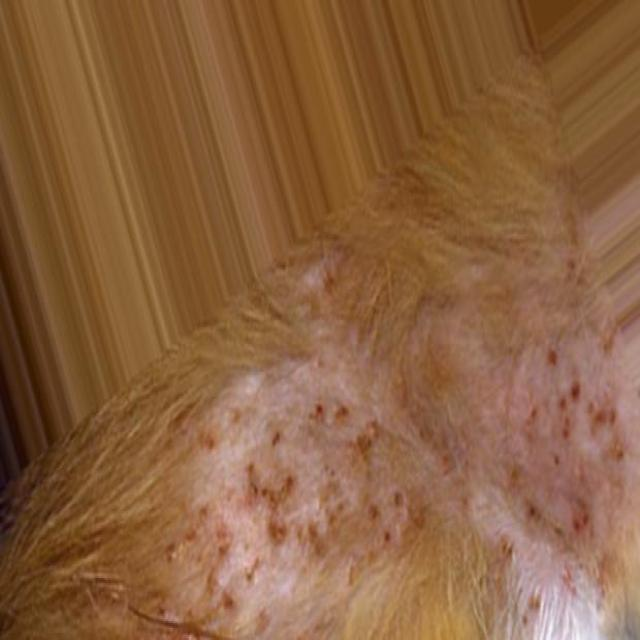di ung bo chet: (133, 340, 441, 640), (469, 291, 640, 640)
